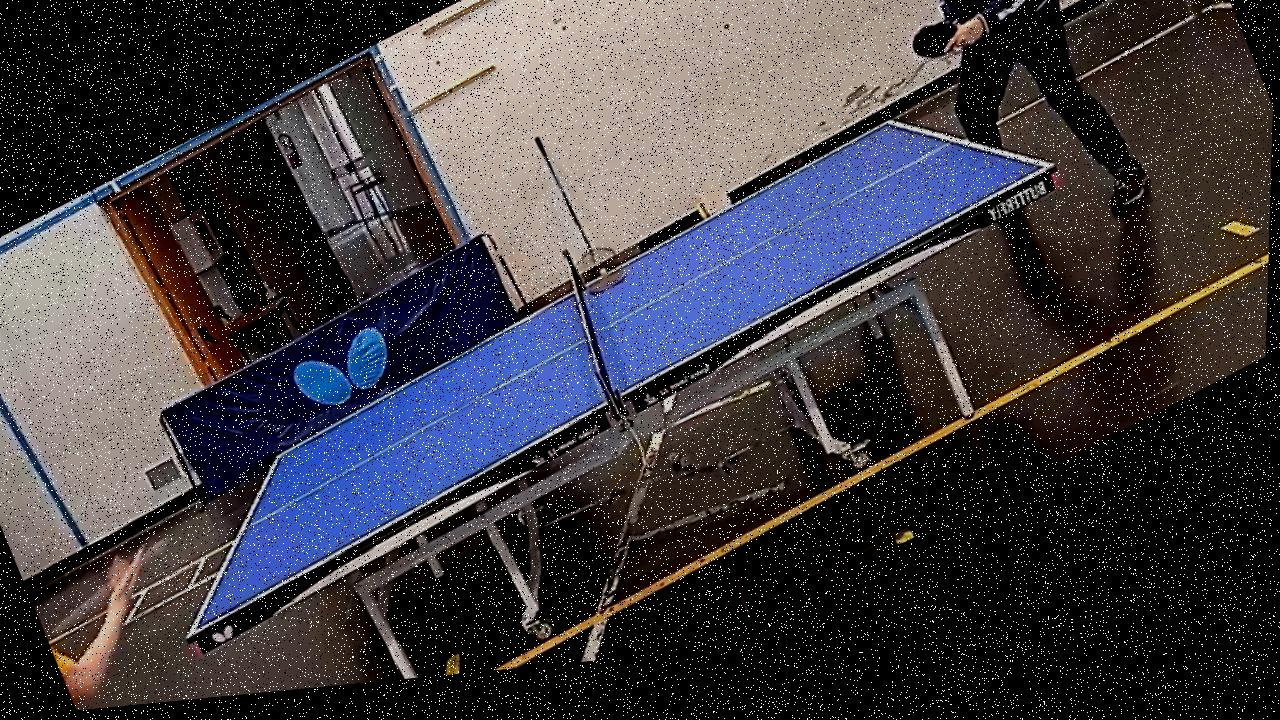table: (146, 78, 1069, 639)
